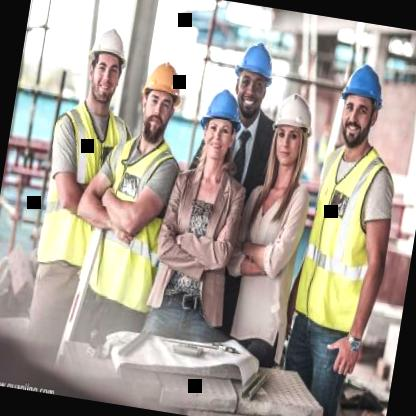helmet: (330, 54, 390, 153), (133, 50, 191, 144), (190, 80, 249, 172), (262, 86, 322, 174), (225, 33, 280, 121), (82, 17, 134, 104)
